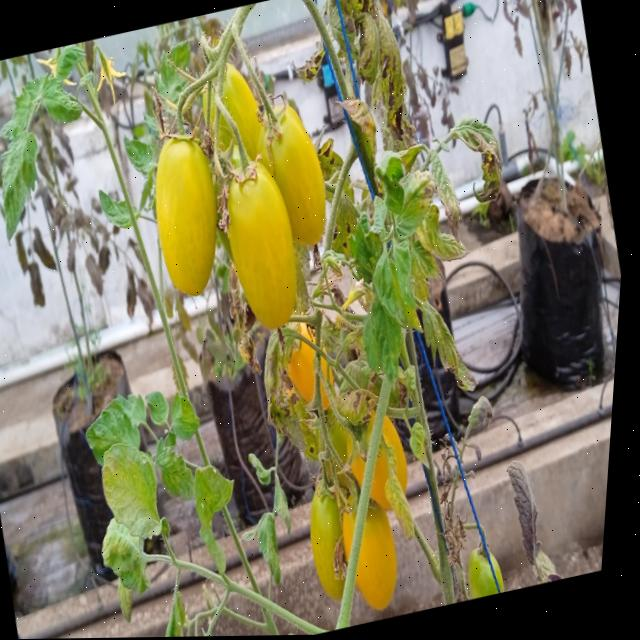fine: (149, 124, 249, 309), (221, 166, 321, 328), (253, 94, 351, 252), (185, 53, 279, 193), (345, 380, 429, 503), (252, 322, 349, 417)
overripe: (345, 482, 420, 616)
unripe: (306, 483, 391, 621), (451, 517, 560, 604)
